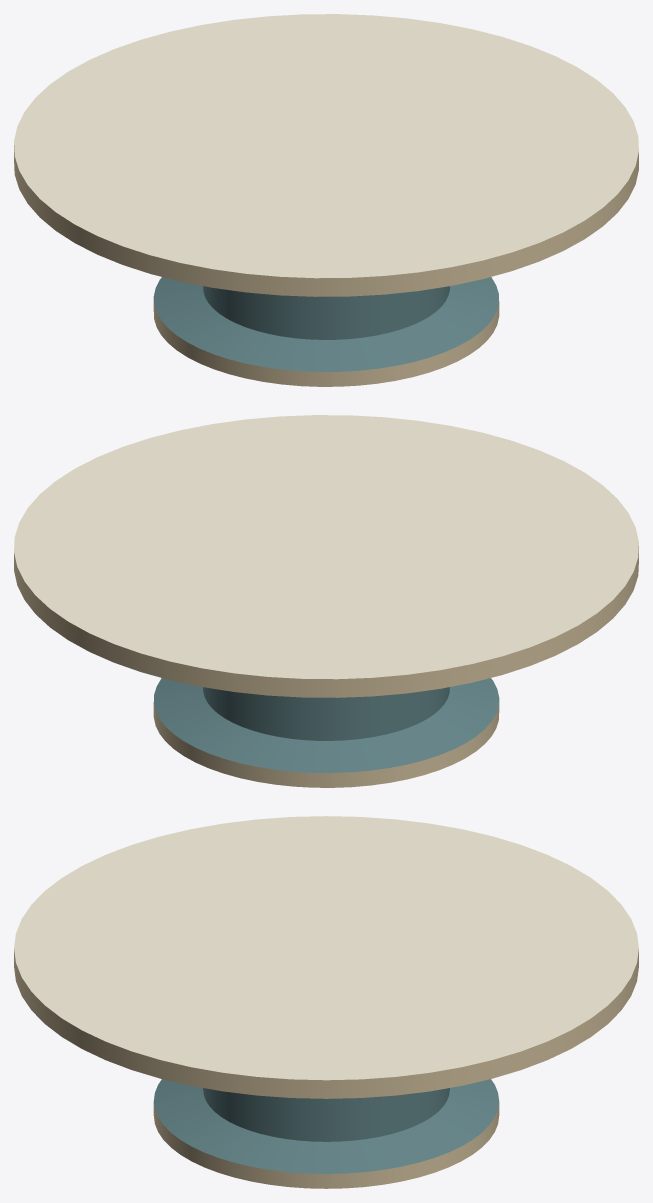
The model's file is KC32__AD_Int_Table_Marble.glb.
The picture shows the model from 3 angles, top to bottom: view 1: azimuth 30°, elevation 25°; view 2: azimuth 150°, elevation 25°; view 3: azimuth 270°, elevation 25°; orthographic projection.
Visible parts, largest first — view 1: KC32_LUMIERE__AD_Int_Table_Marble, KC32_CORPS__AD_Int_Table_Marble, KC32_BRONZE__AD_Int_Table_Marble; view 2: KC32_LUMIERE__AD_Int_Table_Marble, KC32_CORPS__AD_Int_Table_Marble, KC32_BRONZE__AD_Int_Table_Marble; view 3: KC32_LUMIERE__AD_Int_Table_Marble, KC32_CORPS__AD_Int_Table_Marble, KC32_BRONZE__AD_Int_Table_Marble.
Boxes of the visible parts, left/top/right/bottom form: KC32_LUMIERE__AD_Int_Table_Marble: left=14, top=14, right=638, bottom=278; KC32_CORPS__AD_Int_Table_Marble: left=153, top=277, right=499, bottom=371; KC32_BRONZE__AD_Int_Table_Marble: left=14, top=145, right=638, bottom=386; KC32_LUMIERE__AD_Int_Table_Marble: left=14, top=415, right=638, bottom=679; KC32_CORPS__AD_Int_Table_Marble: left=153, top=678, right=499, bottom=772; KC32_BRONZE__AD_Int_Table_Marble: left=14, top=546, right=638, bottom=787; KC32_LUMIERE__AD_Int_Table_Marble: left=14, top=816, right=638, bottom=1080; KC32_CORPS__AD_Int_Table_Marble: left=154, top=1079, right=498, bottom=1173; KC32_BRONZE__AD_Int_Table_Marble: left=14, top=949, right=638, bottom=1188.
Size of the model in its own units: 1.52 by 0.45 by 1.52.
